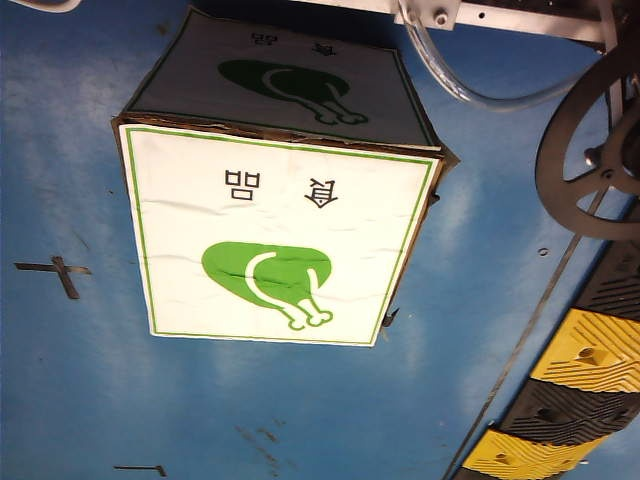Cube_food: (159, 160, 375, 336)
